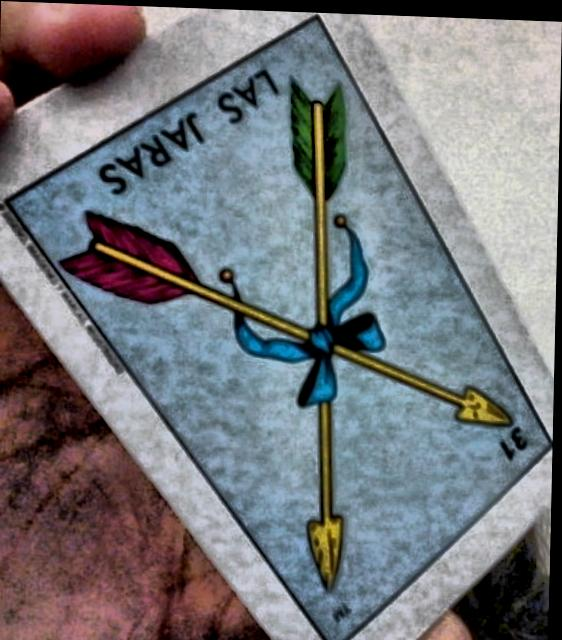Las Jaras: (6, 9, 552, 640)
